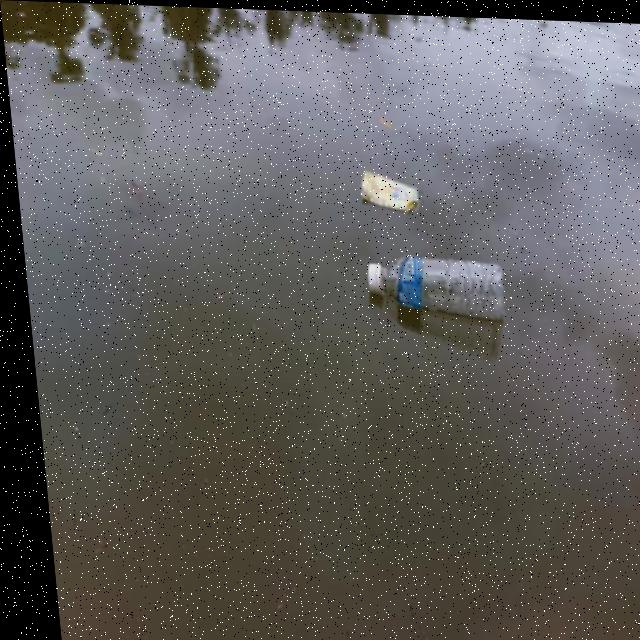paper: (347, 165, 421, 213)
waterbottle: (345, 242, 510, 337)
